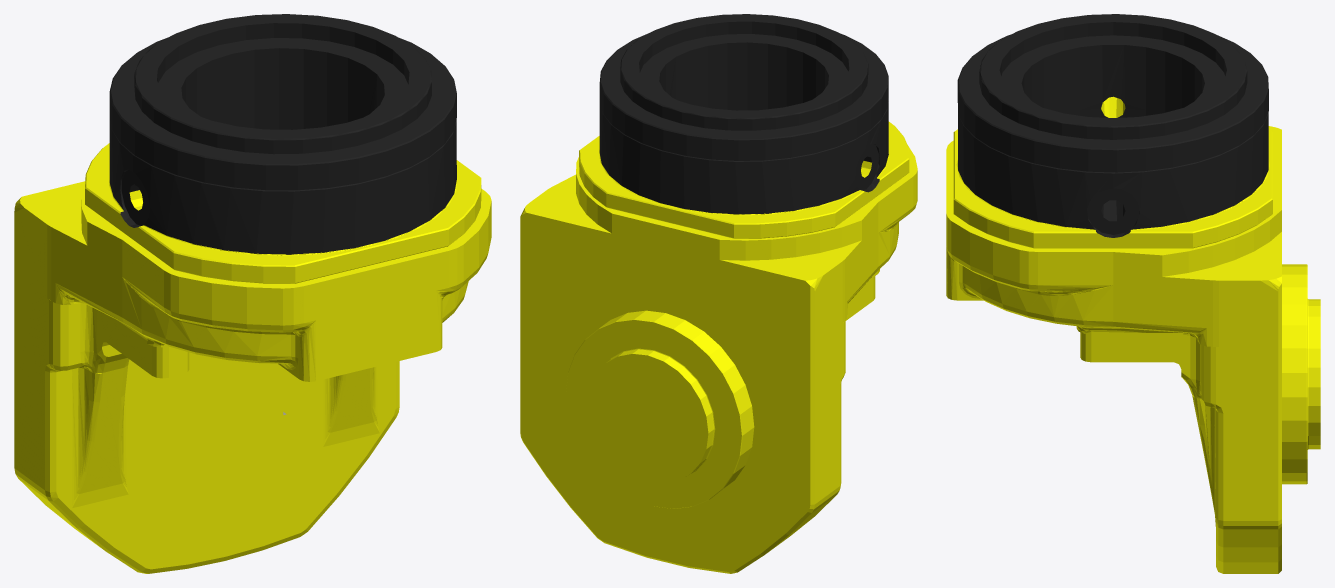
3 views of the same model, side by side, from view 1: azimuth 30°, elevation 25°; view 2: azimuth 150°, elevation 25°; view 3: azimuth 270°, elevation 25° (orthographic). The views are drawn at different scales.
Visible parts, largest first — view 1: node; view 2: node; view 3: node.
Boxes of the visible parts, x1,y1,x2,y2 form: node: [14, 14, 491, 573]; node: [520, 14, 917, 573]; node: [946, 14, 1320, 573].
Size of the model in its own units: 100 by 143 by 102.
